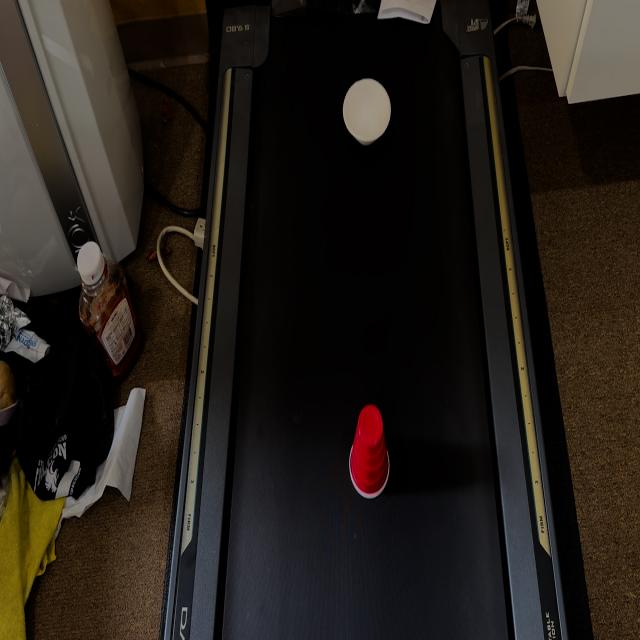Recycle: (346, 400, 390, 504), (342, 75, 392, 149)
